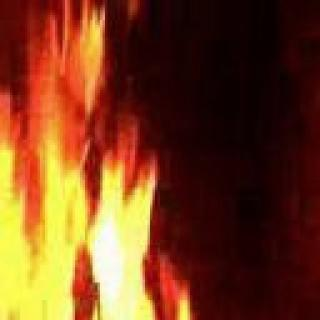fire: (0, 61, 218, 320)
